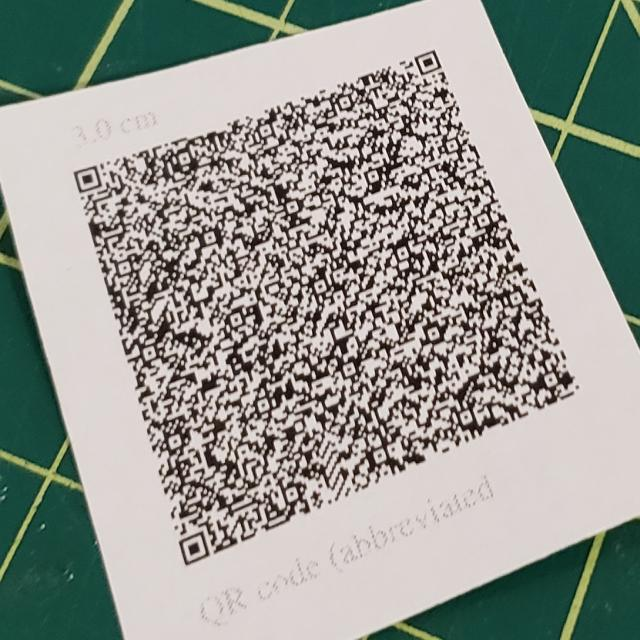QR_CODE: (54, 15, 602, 575)
